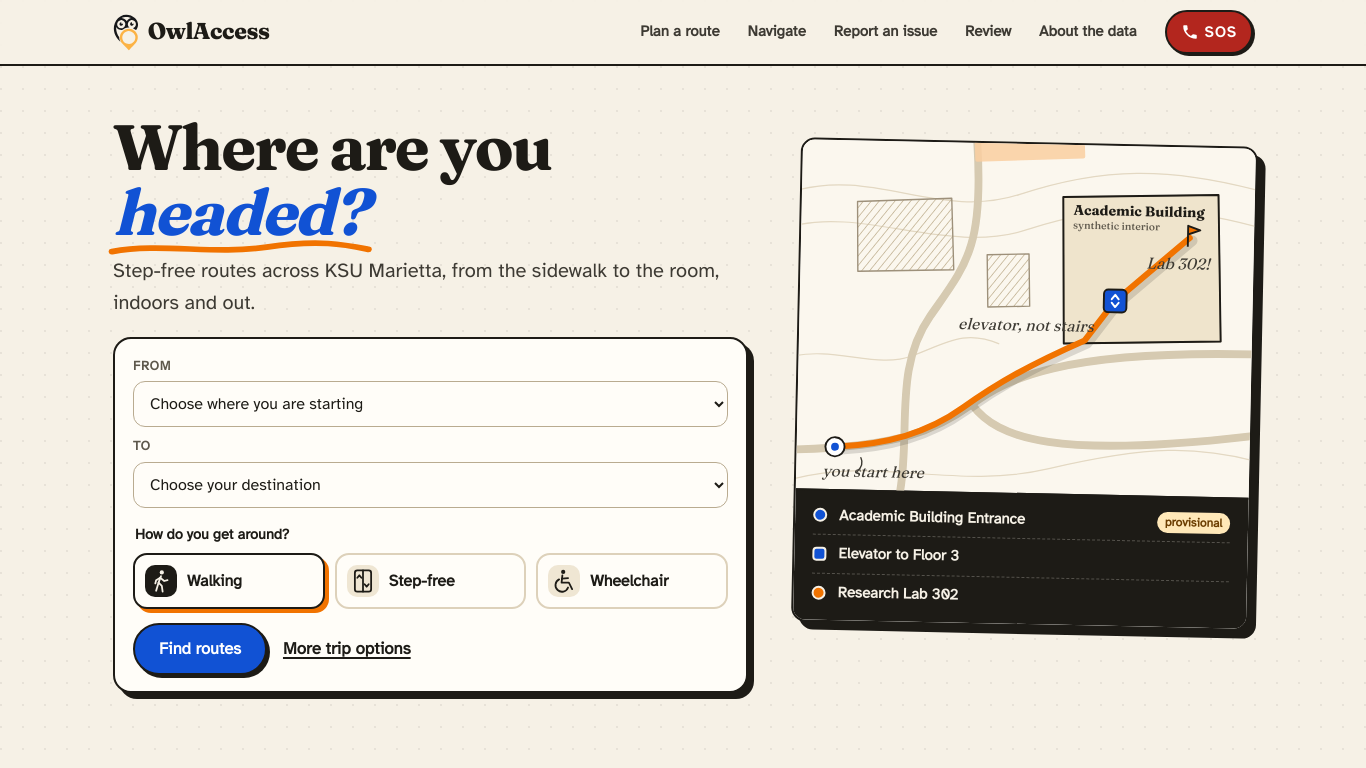
it: pages and navigation (jsdom, not a real browser) › the landing page starts with the trip; 'More trip options' opens /plan
Step 1. Click the link "More trip options" → [347, 649], box x1=283 y1=637 x2=411 y2=661
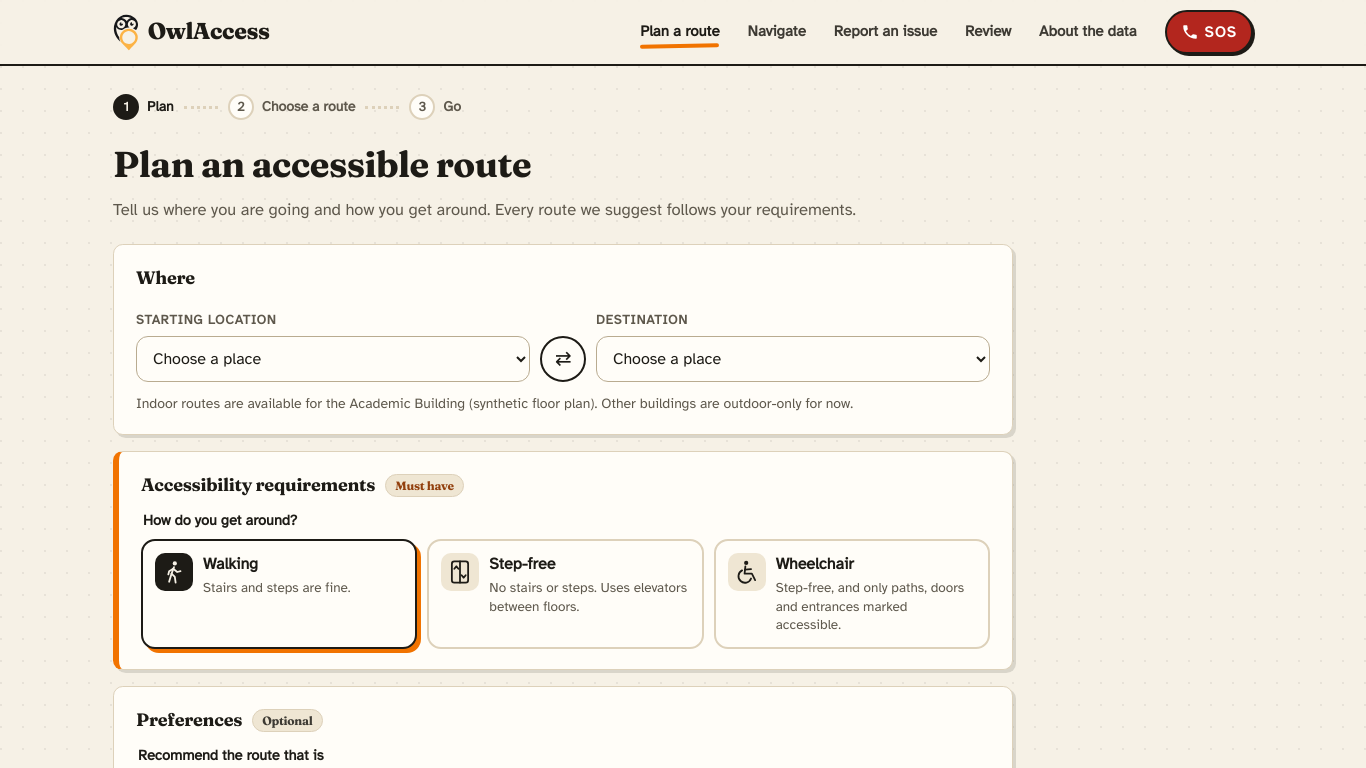
Now the heading "Plan an accessible route" is shown, box x1=113 y1=142 x2=531 y2=186
